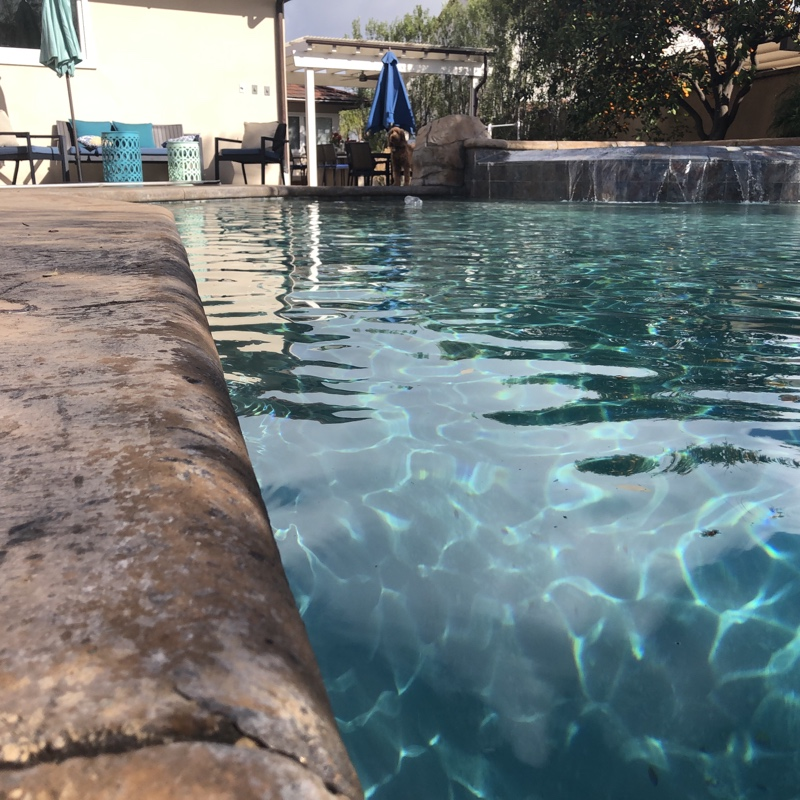Plastic Bottle: (400, 192, 422, 211)
